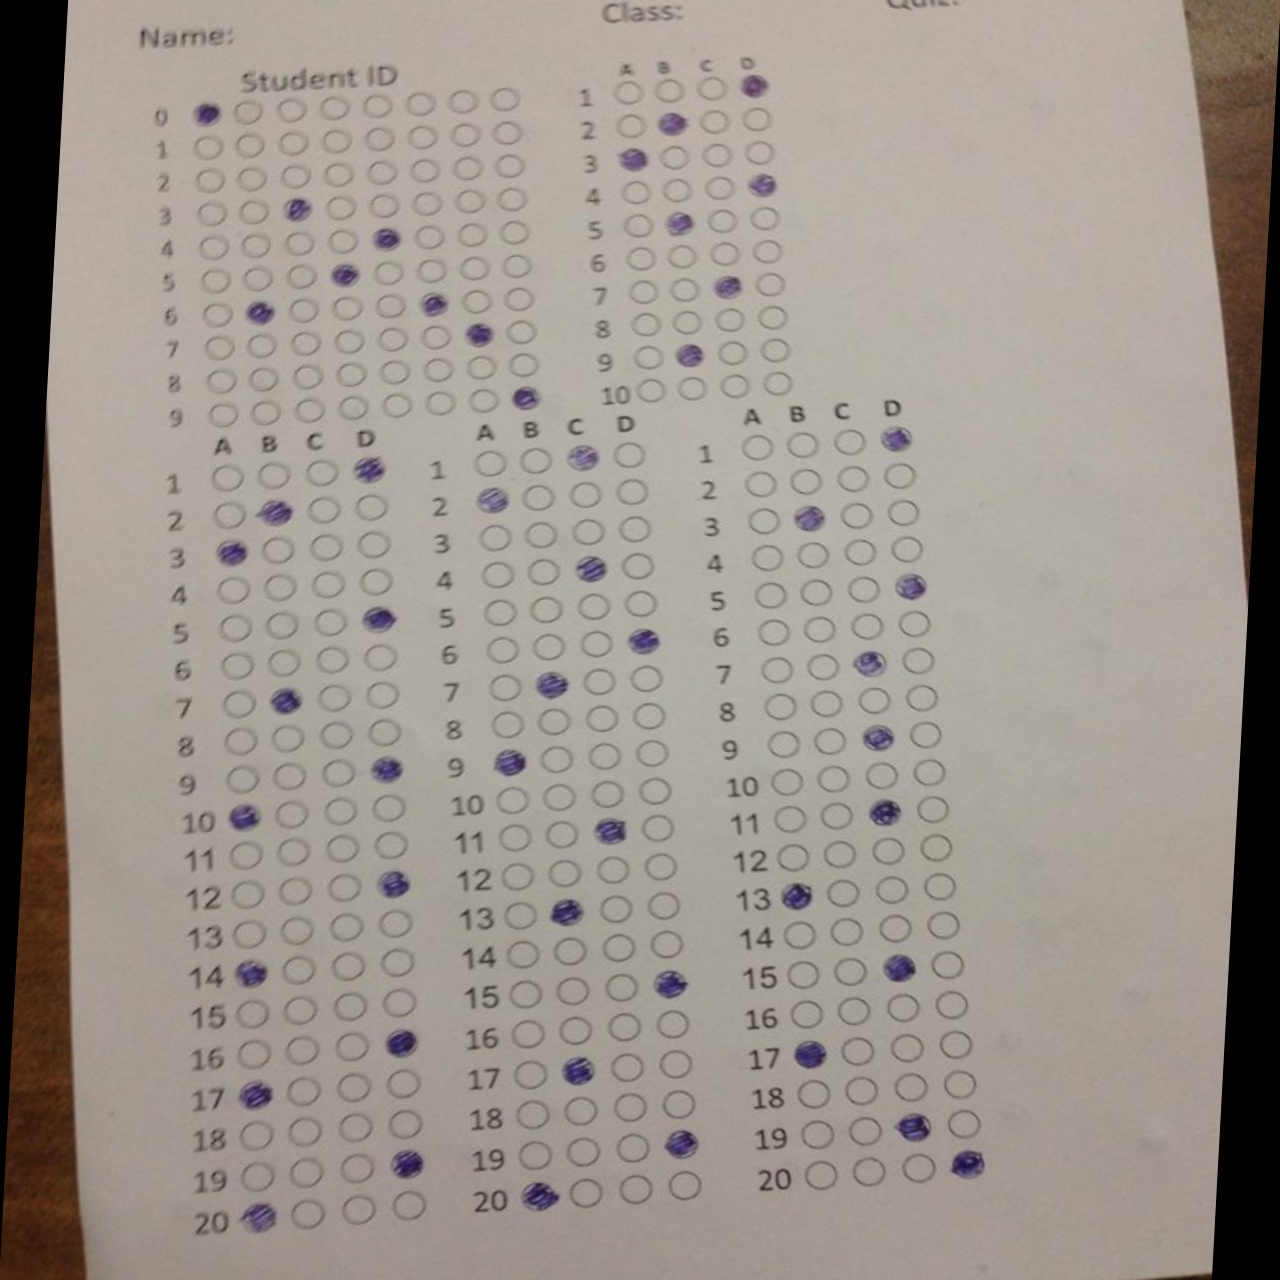not-c: (340, 1192, 379, 1227), (334, 1030, 373, 1064), (492, 782, 531, 816), (612, 1133, 651, 1166), (384, 1109, 424, 1141), (595, 852, 633, 885), (504, 937, 542, 969), (511, 1057, 549, 1090), (645, 890, 683, 921), (600, 932, 639, 964), (665, 1170, 703, 1201), (905, 719, 944, 750), (779, 918, 818, 949), (523, 557, 563, 587), (565, 1178, 605, 1208), (794, 577, 833, 607), (765, 767, 805, 797), (379, 947, 414, 981), (336, 1069, 370, 1104), (286, 1114, 321, 1148), (804, 1156, 839, 1190), (376, 906, 413, 939), (899, 1151, 935, 1184), (229, 877, 266, 908), (325, 913, 367, 941), (625, 663, 667, 692), (629, 700, 667, 731), (640, 813, 678, 845), (837, 501, 874, 532), (908, 756, 946, 788), (230, 918, 268, 948), (618, 551, 656, 581), (755, 618, 794, 648), (360, 644, 400, 673), (275, 878, 315, 907), (501, 900, 540, 930), (888, 536, 928, 565), (828, 917, 867, 946), (617, 1172, 651, 1206), (273, 760, 308, 792), (553, 935, 588, 968), (928, 949, 964, 982), (334, 992, 370, 1023), (384, 1068, 421, 1099), (615, 476, 652, 508), (622, 587, 659, 619), (547, 857, 584, 888), (642, 851, 679, 883), (508, 1017, 544, 1049), (912, 794, 948, 825), (291, 1201, 328, 1232), (535, 709, 572, 740), (542, 819, 579, 850), (647, 930, 685, 960), (560, 1096, 598, 1126), (515, 1139, 552, 1170), (922, 911, 960, 941), (832, 956, 870, 987), (839, 1035, 877, 1065), (890, 1032, 927, 1062), (454, 253, 492, 282), (273, 839, 312, 869), (835, 463, 873, 492), (915, 835, 954, 864), (871, 874, 910, 904), (282, 1036, 322, 1064), (610, 1092, 649, 1121), (743, 508, 783, 536), (392, 1189, 425, 1221), (341, 1155, 376, 1186), (661, 1088, 696, 1119), (233, 998, 270, 1028), (825, 878, 862, 908), (945, 1110, 981, 1141), (207, 463, 245, 492), (320, 760, 358, 789), (338, 1112, 375, 1142), (497, 862, 535, 891), (602, 974, 640, 1003), (876, 913, 913, 942), (941, 1069, 979, 1098), (366, 720, 404, 748), (482, 599, 520, 627), (488, 710, 526, 738), (782, 960, 821, 988), (853, 1156, 886, 1189), (290, 1157, 324, 1189), (610, 1051, 644, 1083), (885, 461, 919, 492), (856, 685, 890, 716), (821, 801, 855, 832), (536, 745, 576, 772), (599, 894, 634, 925), (557, 1015, 592, 1046), (760, 692, 795, 722), (764, 729, 799, 760), (939, 1028, 974, 1058), (850, 1115, 885, 1145), (213, 499, 250, 529), (266, 648, 302, 678), (223, 765, 259, 795), (529, 595, 565, 625), (634, 738, 670, 768), (505, 980, 542, 1009), (606, 1013, 642, 1042), (782, 430, 818, 459), (832, 427, 869, 456), (821, 840, 857, 870), (280, 231, 318, 259), (331, 362, 368, 390), (307, 535, 345, 563), (236, 1040, 273, 1068), (477, 561, 515, 590), (483, 634, 520, 662), (894, 608, 932, 636), (919, 873, 956, 901), (282, 954, 314, 987), (240, 1118, 273, 1150), (566, 1136, 599, 1167), (318, 128, 352, 158), (192, 129, 226, 159), (406, 88, 440, 118), (363, 89, 397, 120), (315, 93, 349, 123), (318, 683, 352, 714), (382, 989, 416, 1020), (812, 726, 846, 756), (896, 1070, 930, 1101), (459, 287, 495, 316), (365, 681, 400, 710), (479, 520, 515, 550), (581, 666, 617, 695), (590, 779, 625, 809), (743, 471, 778, 501), (769, 805, 804, 835), (225, 843, 265, 869), (216, 577, 252, 605), (222, 690, 258, 719), (524, 520, 560, 549), (576, 592, 612, 620), (638, 777, 674, 805), (738, 434, 775, 462), (842, 540, 879, 567), (901, 686, 939, 713), (277, 127, 309, 157), (275, 95, 308, 125), (278, 918, 311, 948), (332, 951, 365, 981), (322, 195, 361, 220), (198, 334, 237, 360), (772, 844, 811, 870), (231, 130, 265, 159), (489, 86, 523, 115), (406, 122, 440, 151), (288, 361, 322, 390), (508, 350, 542, 380), (273, 798, 307, 828), (843, 1077, 877, 1107), (501, 253, 536, 281), (261, 574, 297, 602), (309, 571, 345, 599), (327, 874, 362, 903), (738, 138, 774, 166), (574, 518, 610, 546), (656, 1010, 692, 1039), (815, 765, 850, 794), (799, 1119, 835, 1148), (416, 324, 452, 350), (356, 532, 393, 559), (314, 646, 350, 673), (373, 794, 409, 821), (862, 764, 898, 791), (934, 990, 971, 1017), (372, 835, 409, 860), (517, 448, 554, 474), (515, 1101, 552, 1126), (365, 157, 396, 188), (448, 86, 481, 115), (413, 257, 445, 286), (618, 515, 651, 544), (809, 689, 842, 719), (198, 300, 232, 328), (377, 359, 411, 387), (307, 497, 341, 525), (263, 536, 297, 564), (324, 797, 358, 825), (284, 996, 318, 1024), (241, 1162, 275, 1190), (490, 672, 524, 700), (542, 783, 576, 811), (660, 1051, 694, 1080), (801, 617, 835, 645), (350, 493, 386, 520), (358, 568, 393, 595), (313, 610, 348, 636), (319, 722, 354, 749), (611, 79, 646, 105), (529, 633, 564, 660), (556, 978, 591, 1005), (850, 613, 885, 640), (232, 166, 268, 192), (198, 267, 234, 293), (372, 294, 408, 320), (611, 441, 647, 467), (796, 543, 832, 568), (791, 999, 822, 1029), (797, 1080, 829, 1109), (195, 199, 227, 227), (248, 365, 281, 393), (632, 343, 665, 372), (760, 658, 792, 686), (887, 994, 920, 1022), (493, 186, 527, 213), (282, 298, 316, 325), (223, 728, 257, 755), (271, 726, 305, 753), (658, 142, 692, 169), (701, 141, 735, 168), (579, 631, 613, 658), (499, 824, 533, 851), (806, 654, 840, 681), (257, 464, 292, 490), (264, 612, 299, 638), (619, 181, 654, 206), (622, 245, 658, 271), (587, 744, 622, 770), (748, 547, 784, 572), (697, 73, 727, 103), (847, 576, 878, 605), (367, 190, 399, 218), (697, 108, 729, 136), (741, 103, 772, 131), (621, 211, 653, 239), (285, 263, 318, 290), (288, 1080, 321, 1107), (665, 244, 697, 271), (451, 189, 489, 212), (632, 377, 669, 401), (198, 234, 232, 260), (333, 295, 367, 321), (467, 354, 501, 380), (336, 396, 370, 422), (613, 113, 647, 138), (755, 305, 789, 331), (901, 648, 935, 674), (873, 840, 907, 866), (491, 120, 526, 144), (836, 999, 871, 1023), (719, 373, 748, 402), (411, 189, 442, 217), (761, 336, 791, 365), (764, 370, 792, 401), (586, 706, 617, 734), (885, 501, 915, 529), (449, 122, 481, 149), (195, 166, 226, 193), (306, 459, 338, 486), (218, 614, 250, 641), (708, 207, 740, 234), (628, 278, 660, 305), (631, 311, 662, 338), (672, 309, 703, 336), (247, 332, 280, 358), (291, 332, 324, 358), (250, 400, 282, 425), (704, 175, 737, 200), (369, 260, 403, 285), (568, 482, 602, 506), (234, 96, 263, 125), (365, 127, 395, 154), (238, 200, 270, 226), (497, 220, 529, 246), (241, 267, 273, 293), (408, 159, 441, 184), (294, 399, 327, 423), (754, 273, 787, 298), (474, 451, 506, 476), (277, 165, 311, 189), (504, 286, 538, 309), (670, 275, 699, 304), (451, 156, 482, 182), (425, 358, 456, 383), (328, 837, 359, 863), (222, 653, 253, 678), (415, 225, 448, 248), (377, 328, 410, 352), (789, 471, 822, 495), (663, 176, 693, 202), (751, 206, 781, 232), (717, 309, 747, 335), (493, 155, 524, 179), (206, 370, 237, 395), (456, 223, 488, 246), (755, 584, 787, 607), (241, 234, 268, 261), (508, 318, 536, 343), (210, 402, 238, 428), (335, 331, 365, 355), (719, 340, 748, 365), (751, 239, 781, 263), (676, 377, 706, 401), (324, 162, 354, 184), (325, 231, 355, 253), (425, 392, 456, 414), (524, 486, 554, 509), (652, 79, 685, 98), (709, 241, 738, 264), (384, 393, 411, 416), (470, 388, 496, 411)
taken-c: (788, 1037, 831, 1071), (554, 1056, 599, 1088), (879, 951, 919, 986), (515, 1177, 557, 1208), (865, 795, 903, 829), (892, 1111, 933, 1142), (232, 956, 268, 990), (591, 816, 629, 847), (531, 667, 568, 699), (360, 605, 399, 635), (237, 1200, 275, 1231), (947, 1148, 986, 1178), (386, 1148, 425, 1177), (350, 452, 384, 486), (891, 568, 926, 601), (491, 745, 527, 777), (253, 497, 291, 527), (790, 501, 825, 532), (859, 721, 894, 753), (212, 537, 248, 567), (236, 1080, 272, 1110), (624, 625, 661, 654), (850, 647, 887, 676), (549, 896, 583, 927), (570, 554, 610, 581), (367, 754, 403, 783), (563, 442, 599, 471), (876, 423, 912, 452), (777, 881, 813, 911), (383, 1026, 416, 1057), (662, 1128, 697, 1157), (472, 485, 508, 515), (375, 869, 411, 897), (742, 170, 778, 198), (189, 97, 222, 128), (278, 193, 312, 223), (651, 971, 687, 998), (614, 147, 651, 173), (267, 686, 302, 713), (653, 110, 688, 137), (670, 341, 706, 367), (710, 275, 745, 301), (227, 801, 259, 829), (328, 261, 360, 288), (737, 72, 769, 98), (241, 298, 274, 324), (662, 210, 693, 237), (369, 224, 401, 250), (508, 384, 539, 410), (462, 321, 495, 346), (416, 291, 447, 316)
